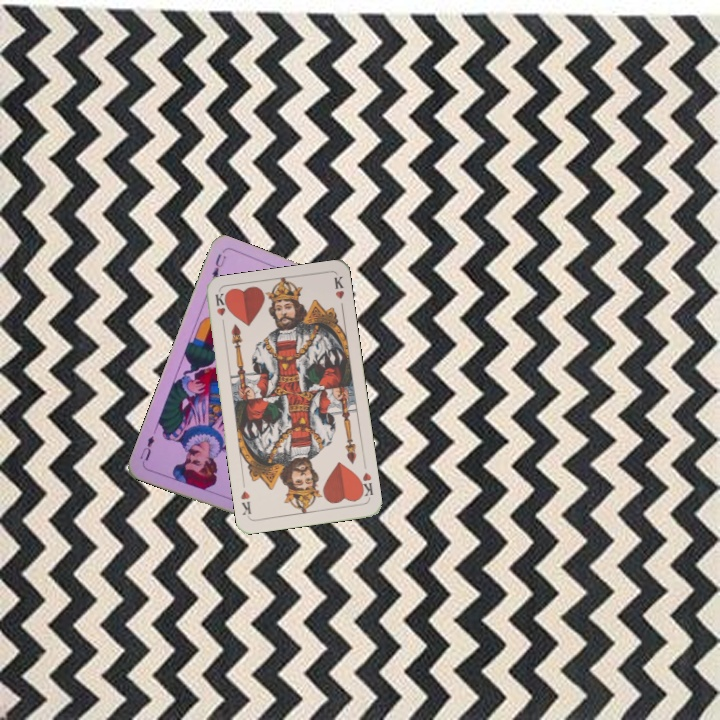EU: (208, 250, 229, 281)
HK: (211, 290, 228, 331), (354, 468, 375, 501)
